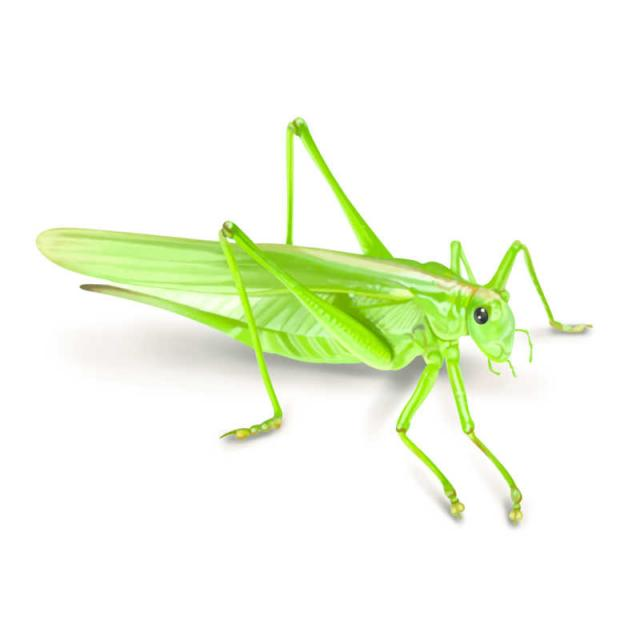ZhaMeng: (30, 95, 624, 537)
